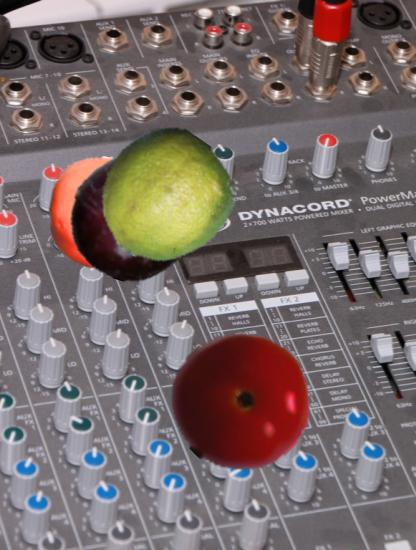Clementine: (41, 156, 155, 270)
Limes: (99, 130, 233, 264)
Plum: (67, 153, 196, 282)
Tomato: (171, 331, 311, 471)
